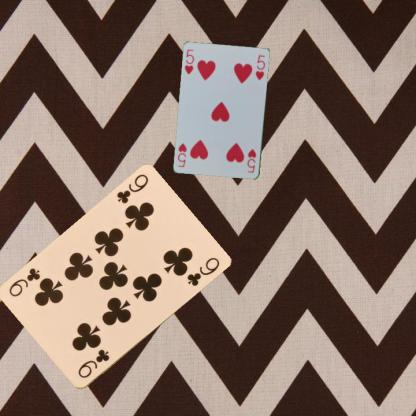5h: (182, 46, 195, 76), (245, 147, 258, 174)
9c: (113, 172, 150, 206), (75, 347, 111, 380)
